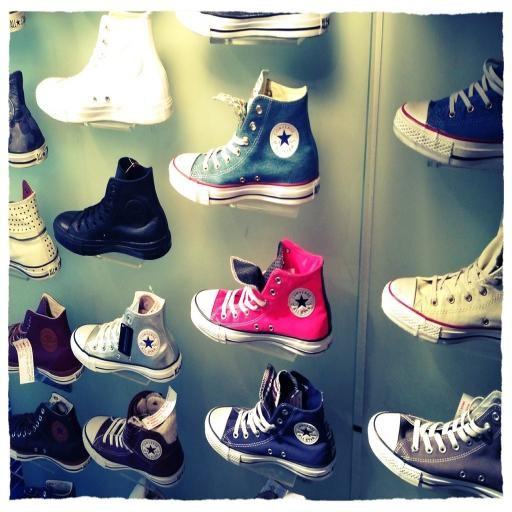shoe: (169, 70, 320, 205), (190, 238, 332, 356), (36, 11, 172, 125), (204, 364, 336, 480), (382, 224, 504, 344), (368, 390, 502, 498), (53, 157, 171, 260), (394, 58, 504, 166), (70, 292, 182, 382), (82, 390, 184, 487), (8, 293, 84, 385), (9, 392, 91, 472), (8, 180, 62, 280), (176, 11, 330, 39), (8, 71, 48, 168), (254, 478, 306, 500), (21, 479, 77, 499), (128, 477, 166, 500), (9, 11, 26, 33)
